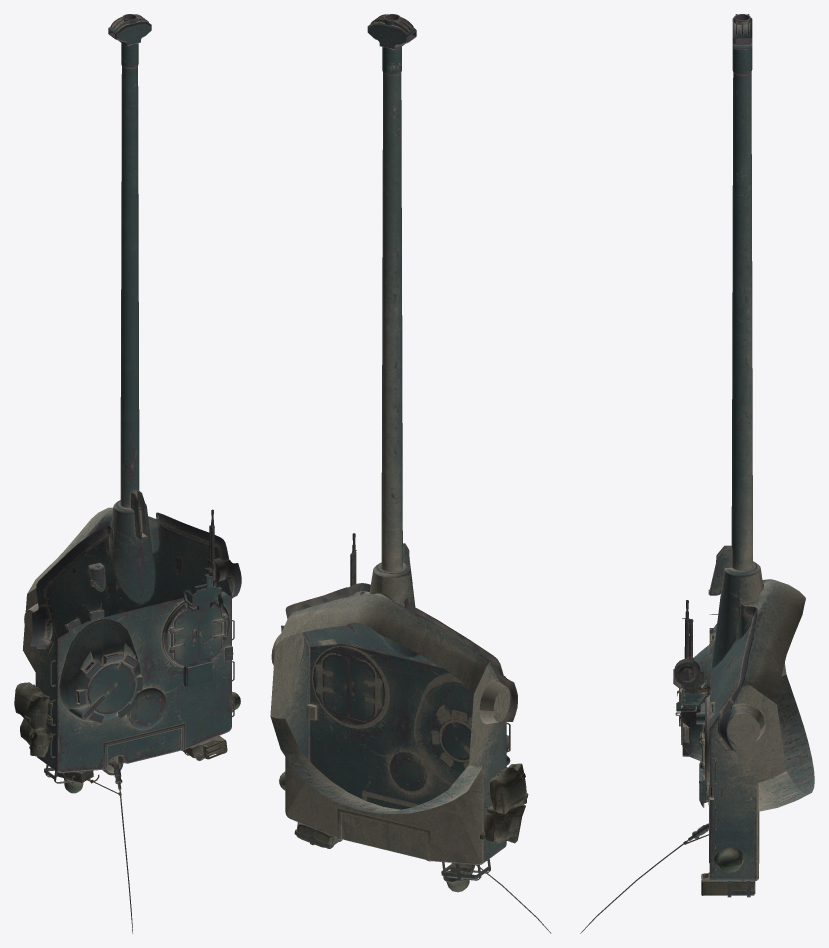
Rendered from Gun_02.glb.
The picture shows the model from 3 angles, left to right: view 1: azimuth 30°, elevation 25°; view 2: azimuth 150°, elevation 25°; view 3: azimuth 270°, elevation 25°; orthographic projection. The views are drawn at different scales.
Parts seen in each view (by area): view 1: set_0_group_0; view 2: set_0_group_0; view 3: set_0_group_0.
Boxes of the visible parts, box(x1,y1,x2,y2) form: set_0_group_0: box(14, 14, 241, 933); set_0_group_0: box(270, 14, 551, 933); set_0_group_0: box(580, 14, 814, 933).
Bounding box in the file's own units: 2.45 × 9.16 × 2.04.
Materials: 1 (1 with a texture image).
